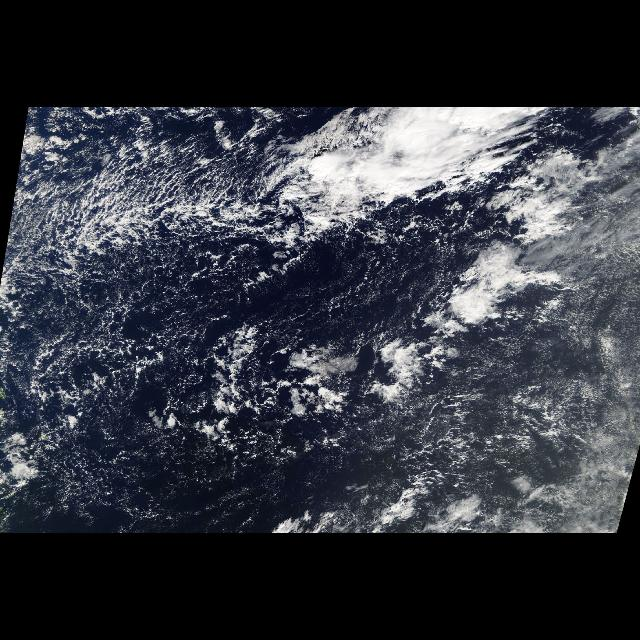Gravel: (17, 112, 274, 476)
Sugar: (472, 264, 638, 518)
